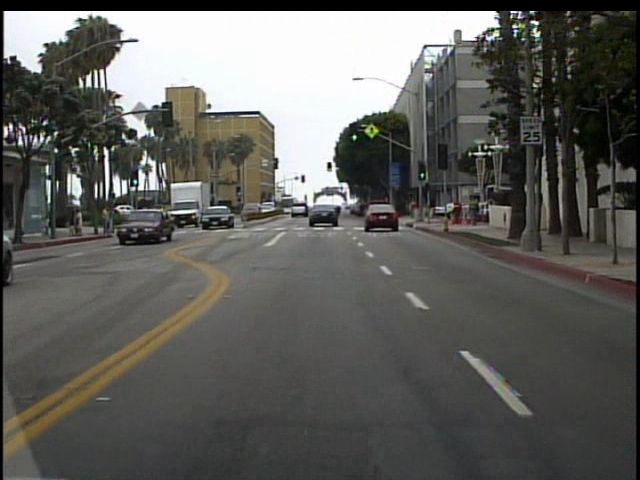person: (102, 199, 114, 236), (44, 213, 55, 237)
